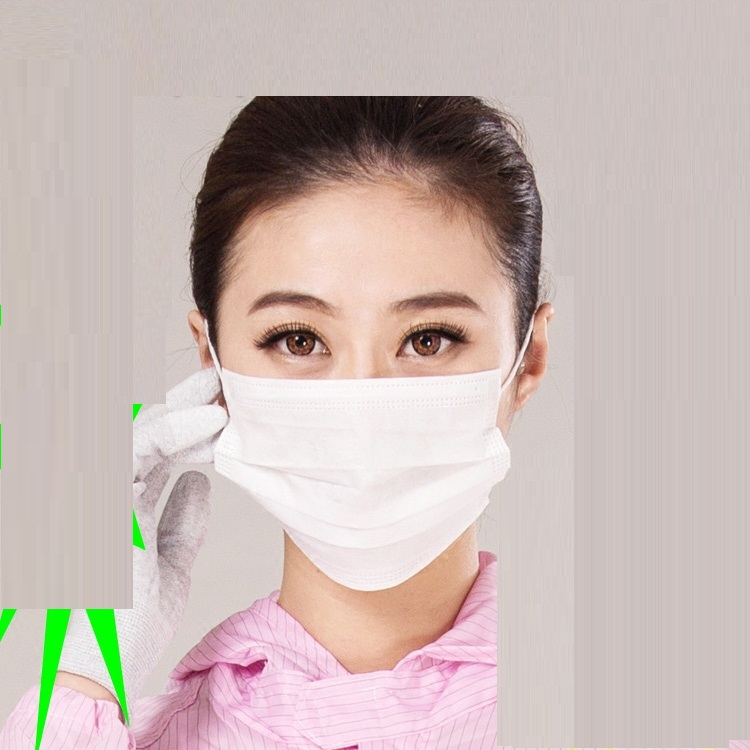face_mask: (222, 177, 505, 548)
